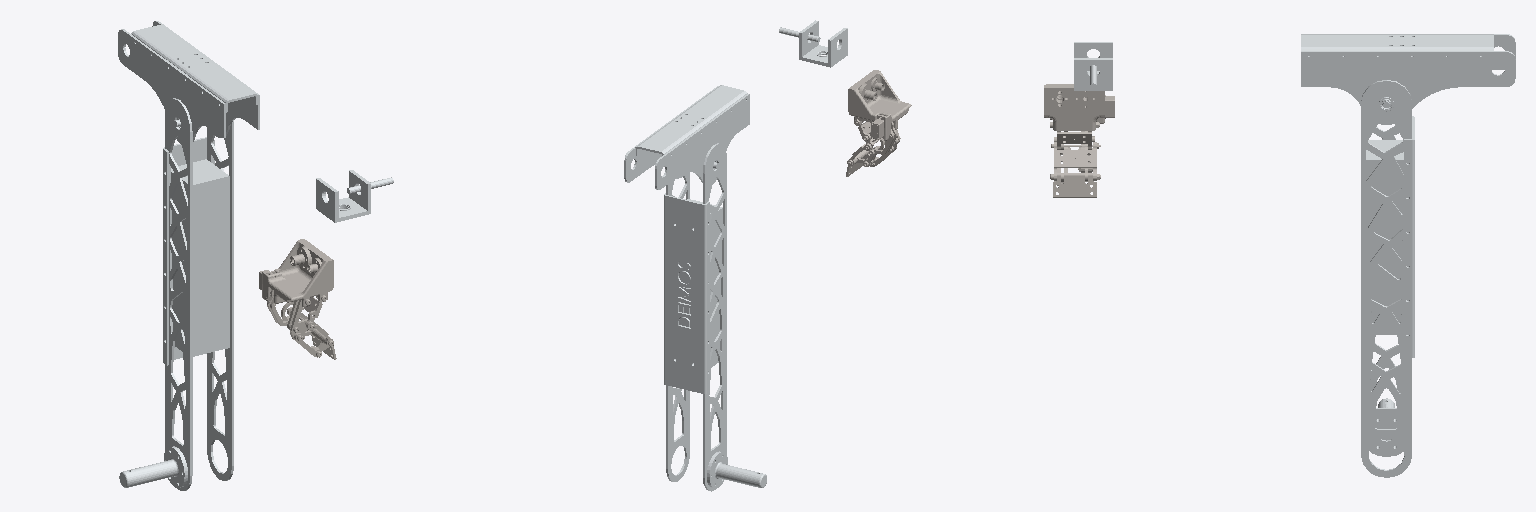
robot.urdf — new_Arm_Urdf:
<?xml version="1.0" encoding="utf-8"?>
<!-- This URDF was automatically created by SolidWorks to URDF Exporter! Originally created by [author] ([email redacted]) 
     Commit Version: 1.6.0-4-g7f85cfe  Build Version: 1.6.7995.38578
     For more information, please see http://wiki.ros.org/sw_urdf_exporter -->
<robot
  name="new_Arm_Urdf">
  <link
    name="base_link">
    <inertial>
      <origin
        xyz="-0.0108454625152952 5.41174924359247E-05 0.006809784336333"
        rpy="0 0 0" />
      <mass
        value="0.77116648882986" />
      <inertia
        ixx="0.000698139677914449"
        ixy="-9.98098781596673E-09"
        ixz="-4.42589020292978E-09"
        iyy="0.000247085234791679"
        iyz="-7.75794099441988E-09"
        izz="0.000718421438540256" />
    </inertial>
    <visual>
      <origin
        xyz="0 0 0"
        rpy="0 0 0" />
      <geometry>
        <mesh
          filename="package://new_Arm_Urdf/meshes/base_link.STL" />
      </geometry>
      <material
        name="">
        <color
          rgba="0.650980392156863 0.619607843137255 0.588235294117647 1" />
      </material>
    </visual>
    <collision>
      <origin
        xyz="0 0 0"
        rpy="0 0 0" />
      <geometry>
        <mesh
          filename="package://new_Arm_Urdf/meshes/base_link.STL" />
      </geometry>
    </collision>
  </link>
  <link name="world" />
  <joint name="world_joint" type="fixed">
        <origin xyz="0 0 0.0" rpy="0 0 0" />
        <parent link="world" />
        <child link="base_link" />
  </joint>
  <link
    name="Link_1">
    <inertial>
      <origin
        xyz="0.0020167 0.029098 0.029942"
        rpy="0 0 0" />
      <mass
        value="2.1944" />
      <inertia
        ixx="0.0062231"
        ixy="2.6994E-08"
        ixz="-1.9674E-07"
        iyy="0.0046047"
        iyz="-6.4389E-05"
        izz="0.009708" />
    </inertial>
    <visual>
      <origin
        xyz="0 0 0"
        rpy="0 0 0" />
      <geometry>
        <mesh
          filename="package://new_Arm_Urdf/meshes/Link_1.STL" />
      </geometry>
      <material
        name="">
        <color
          rgba="0.52941 0.54902 0.54902 1" />
      </material>
    </visual>
    <collision>
      <origin
        xyz="0 0 0"
        rpy="0 0 0" />
      <geometry>
        <mesh
          filename="package://new_Arm_Urdf/meshes/Link_1.STL" />
      </geometry>
    </collision>
  </link>
  <joint
    name="Joint_1"
    type="revolute">
    <origin
      xyz="0 0 0.073"
      rpy="0 0 0" />
    <parent
      link="base_link" />
    <child
      link="Link_1" />
    <axis
      xyz="0 0 1" />
    <limit
      lower="-3.17"
      upper="3.17"
      effort="50"
      velocity="5" />
  </joint>
  <link
    name="Link_2">
    <inertial>
      <origin
        xyz="0.003968 0.21748 0.022624"
        rpy="0 0 0" />
      <mass
        value="0.69662" />
      <inertia
        ixx="0.0086745"
        ixy="-1.4743E-05"
        ixz="-2.58E-09"
        iyy="0.00040391"
        iyz="4.8746E-10"
        izz="0.0087233" />
    </inertial>
    <visual>
      <origin
        xyz="0 0 0"
        rpy="0 0 0" />
      <geometry>
        <mesh
          filename="package://new_Arm_Urdf/meshes/Link_2.STL" />
      </geometry>
      <material
        name="">
        <color
          rgba="0.89804 0.91765 0.92941 1" />
      </material>
    </visual>
    <collision>
      <origin
        xyz="0 0 0"
        rpy="0 0 0" />
      <geometry>
        <mesh
          filename="package://new_Arm_Urdf/meshes/Link_2.STL" />
      </geometry>
    </collision>
  </link>
  <joint
    name="Joint_2"
    type="revolute">
    <origin
      xyz="-0.03 0.115 0.045"
      rpy="1.5708 0 1.5708" />
    <parent
      link="Link_1" />
    <child
      link="Link_2" />
    <axis
      xyz="0 0 -1" />
    <limit
      lower="-3.17"
      upper="3.17"
      effort="50"
      velocity="5" />
  </joint>
  <link
    name="Link_3">
    <inertial>
      <origin
        xyz="0.015944 0.039978 0.00016593"
        rpy="0 0 0" />
      <mass
        value="0.50477" />
      <inertia
        ixx="0.00021724"
        ixy="-3.2184E-05"
        ixz="1.0467E-18"
        iyy="0.0015659"
        iyz="-2.2249E-07"
        izz="0.0016584" />
    </inertial>
    <visual>
      <origin
        xyz="0 0 0"
        rpy="0 0 0" />
      <geometry>
        <mesh
          filename="package://new_Arm_Urdf/meshes/Link_3.STL" />
      </geometry>
      <material
        name="">
        <color
          rgba="0.89804 0.91765 0.92941 1" />
      </material>
    </visual>
    <collision>
      <origin
        xyz="0 0 0"
        rpy="0 0 0" />
      <geometry>
        <mesh
          filename="package://new_Arm_Urdf/meshes/Link_3.STL" />
      </geometry>
    </collision>
  </link>
  <joint
    name="Joint_3"
    type="revolute">
    <origin
      xyz="0 0.45 0.030104"
      rpy="0 0 0" />
    <parent
      link="Link_2" />
    <child
      link="Link_3" />
    <axis
      xyz="0 0 -1" />
    <limit
      lower="-3.17"
      upper="3.17"
      effort="50"
      velocity="5" />
  </joint>
  <link
    name="Link_4">
    <inertial>
      <origin
        xyz="0.00078256 0.0017973 -0.25155"
        rpy="0 0 0" />
      <mass
        value="0.70972" />
      <inertia
        ixx="0.001477"
        ixy="-2.4749E-07"
        ixz="-1.0396E-07"
        iyy="0.0014289"
        iyz="5.2193E-06"
        izz="0.0003066" />
    </inertial>
    <visual>
      <origin
        xyz="0 0 0"
        rpy="0 0 0" />
      <geometry>
        <mesh
          filename="package://new_Arm_Urdf/meshes/Link_4.STL" />
      </geometry>
      <material
        name="">
        <color
          rgba="0.89804 0.91765 0.92941 1" />
      </material>
    </visual>
    <collision>
      <origin
        xyz="0 0 0"
        rpy="0 0 0" />
      <geometry>
        <mesh
          filename="package://new_Arm_Urdf/meshes/Link_4.STL" />
      </geometry>
    </collision>
  </link>
  <joint
    name="Joint_4"
    type="revolute">
    <origin
      xyz="0.0424999999995649 0.0399572355492206 0.000401106428108807"
      rpy="0 1.5707963267949 0" />
    <parent
      link="Link_3" />
    <child
      link="Link_4" />
    <axis
      xyz="0 0 1" />
    <limit
      lower="-3.17"
      upper="3.17"
      effort="50"
      velocity="5" />
  </joint>
  <link
    name="Link_5">
    <inertial>
      <origin
        xyz="-1.5271E-13 -0.010109 0.0024958"
        rpy="0 0 0" />
      <mass
        value="0.074154" />
      <inertia
        ixx="3.8226E-05"
        ixy="-6.2247E-21"
        ixz="-2.9242E-18"
        iyy="3.9992E-05"
        iyz="-2.5287E-20"
        izz="2.2717E-05" />
    </inertial>
    <visual>
      <origin
        xyz="0 0 0"
        rpy="0 0 0" />
      <geometry>
        <mesh
          filename="package://new_Arm_Urdf/meshes/Link_5.STL" />
      </geometry>
      <material
        name="">
        <color
          rgba="0.89804 0.91765 0.92941 1" />
      </material>
    </visual>
    <collision>
      <origin
        xyz="0 0 0"
        rpy="0 0 0" />
      <geometry>
        <mesh
          filename="package://new_Arm_Urdf/meshes/Link_5.STL" />
      </geometry>
    </collision>
  </link>
  <joint
    name="Joint_5"
    type="revolute">
    <origin
      xyz="-0.00649999999995384 0 -0.383499999999573"
      rpy="0 1.5707963267949 0" />
    <parent
      link="Link_4" />
    <child
      link="Link_5" />
    <axis
      xyz="0 0 1" />
    <limit
      lower="-3.17"
      upper="3.17"
      effort="50"
      velocity="5" />
  </joint>
  <link
    name="Link_6">
    <inertial>
      <origin
        xyz="0.013561 -0.026542 0.030141"
        rpy="0 0 0" />
      <mass
        value="0.25275" />
      <inertia
        ixx="0.00019507"
        ixy="2.5231E-05"
        ixz="6.2223E-05"
        iyy="0.00090343"
        iyz="-1.4862E-05"
        izz="0.00099324" />
    </inertial>
    <visual>
      <origin
        xyz="0 0 0"
        rpy="0 0 0" />
      <geometry>
        <mesh
          filename="package://new_Arm_Urdf/meshes/Link_6.STL" />
      </geometry>
      <material
        name="">
        <color
          rgba="0.89804 0.91765 0.92941 1" />
      </material>
    </visual>
    <collision>
      <origin
        xyz="0 0 0"
        rpy="0 0 0" />
      <geometry>
        <mesh
          filename="package://new_Arm_Urdf/meshes/Link_6.STL" />
      </geometry>
    </collision>
  </link>
  <joint
    name="Joint_6"
    type="revolute">
    <origin
      xyz="0 -0.0199999999999119 0.00650441096988074"
      rpy="1.5707963267949 -1.5707963267949 0" />
    <parent
      link="Link_5" />
    <child
      link="Link_6" />
    <axis
      xyz="0 0 1" />
    <limit
      lower="-3.17"
      upper="3.17"
      effort="50"
      velocity="5" />
  </joint>
  <link
    name="Gripper_1">
    <inertial>
      <origin
        xyz="0.0204003994866882 0.0334764538131502 0.0632308380842433"
        rpy="0 0 0" />
      <mass
        value="0.137742996070539" />
      <inertia
        ixx="5.29911205654127E-05"
        ixy="-1.12421617290648E-06"
        ixz="-2.49192530851108E-06"
        iyy="7.19109477567397E-05"
        iyz="-1.11448830844525E-05"
        izz="6.43837075224543E-05" />
    </inertial>
    <visual>
      <origin
        xyz="0 0 0"
        rpy="0 0 0" />
      <geometry>
        <mesh
          filename="package://new_Arm_Urdf/meshes/Gripper_1.STL" />
      </geometry>
      <material
        name="">
        <color
          rgba="0.776470588235294 0.756862745098039 0.737254901960784 1" />
      </material>
    </visual>
    <collision>
      <origin
        xyz="0 0 0"
        rpy="0 0 0" />
      <geometry>
        <mesh
          filename="package://new_Arm_Urdf/meshes/Gripper_1.STL" />
      </geometry>
    </collision>
  </link>
  <joint
    name="Finger_1"
    type="prismatic">
    <origin
      xyz="0.00535 -0.039095 0.048795"
      rpy="1.5708 0 1.5708" />
    <parent
      link="Link_6" />
    <child
      link="Gripper_1" />
    <axis
      xyz="0 0 -1" />
    <limit
      lower="-0.15"
      upper="0.15"
      effort="100"
      velocity="10" />
  </joint>
  <link
    name="Gripper_2">
    <inertial>
      <origin
        xyz="0.0145607269511467 0.0386349312979294 -0.0735904539347171"
        rpy="0 0 0" />
      <mass
        value="0.153524806276939" />
      <inertia
        ixx="5.29298080219387E-05"
        ixy="1.90492712259092E-06"
        ixz="-3.08938743831607E-06"
        iyy="7.11796554106571E-05"
        iyz="1.10602892279559E-05"
        izz="6.37754371291907E-05" />
    </inertial>
    <visual>
      <origin
        xyz="0 0 0"
        rpy="0 0 0" />
      <geometry>
        <mesh
          filename="package://new_Arm_Urdf/meshes/Gripper_2.STL" />
      </geometry>
      <material
        name="">
        <color
          rgba="0.776470588235294 0.756862745098039 0.737254901960784 1" />
      </material>
    </visual>
    <collision>
      <origin
        xyz="0 0 0"
        rpy="0 0 0" />
      <geometry>
        <mesh
          filename="package://new_Arm_Urdf/meshes/Gripper_2.STL" />
      </geometry>
    </collision>
  </link>
  <joint
    name="Finger_2"
    type="prismatic">
    <origin
      xyz="0.00534999999999963 -0.0390954035350414 0.0487946645392847"
      rpy="1.5707963267949 0 1.5707963267949" />
    <parent
      link="Link_6" />
    <child
      link="Gripper_2" />
    <axis
      xyz="0 0 -1" />
    <limit
      lower="-0.15"
      upper="0.15"
      effort="100"
      velocity="10" />
  </joint>
  <transmission name="trans_Joint_1">
        <type>transmission_interface/SimpleTransmission</type>
        <joint name="Joint_1">
            <hardwareInterface>hardware_interface/PositionJointInterface</hardwareInterface>
        </joint>
        <actuator name="Link_1_motor">
            <hardwareInterface>hardware_interface/PositionJointInterface</hardwareInterface>
            <mechanicalReduction>1</mechanicalReduction>
        </actuator>
    </transmission>
    <transmission name="trans_Joint_2">
        <type>transmission_interface/SimpleTransmission</type>
        <joint name="Joint_2">
            <hardwareInterface>hardware_interface/PositionJointInterface</hardwareInterface>
        </joint>
        <actuator name="Link_2_motor">
            <hardwareInterface>hardware_interface/PositionJointInterface</hardwareInterface>
            <mechanicalReduction>1</mechanicalReduction>
        </actuator>
    </transmission>
    <transmission name="trans_Joint_3">
        <type>transmission_interface/SimpleTransmission</type>
        <joint name="Joint_3">
            <hardwareInterface>hardware_interface/PositionJointInterface</hardwareInterface>
        </joint>
        <actuator name="Link_3_motor">
            <hardwareInterface>hardware_interface/PositionJointInterface</hardwareInterface>
            <mechanicalReduction>1</mechanicalReduction>
        </actuator>
    </transmission>
    <transmission name="trans_Joint_4">
        <type>transmission_interface/SimpleTransmission</type>
        <joint name="Joint_4">
            <hardwareInterface>hardware_interface/PositionJointInterface</hardwareInterface>
        </joint>
        <actuator name="Link_4_motor">
            <hardwareInterface>hardware_interface/PositionJointInterface</hardwareInterface>
            <mechanicalReduction>1</mechanicalReduction>
        </actuator>
    </transmission>
    <transmission name="trans_Joint_5">
        <type>transmission_interface/SimpleTransmission</type>
        <joint name="Joint_5">
            <hardwareInterface>hardware_interface/PositionJointInterface</hardwareInterface>
        </joint>
        <actuator name="Link_5_motor">
            <hardwareInterface>hardware_interface/PositionJointInterface</hardwareInterface>
            <mechanicalReduction>1</mechanicalReduction>
        </actuator>
    </transmission>
    <transmission name="trans_Joint_6">
        <type>transmission_interface/SimpleTransmission</type>
        <joint name="Joint_6">
            <hardwareInterface>hardware_interface/PositionJointInterface</hardwareInterface>
        </joint>
        <actuator name="Link_6_motor">
            <hardwareInterface>hardware_interface/PositionJointInterface</hardwareInterface>
            <mechanicalReduction>1</mechanicalReduction>
        </actuator>
    </transmission>
    <transmission name="trans_Finger_1">
        <type>transmission_interface/SimpleTransmission</type>
        <joint name="Finger_1">
            <hardwareInterface>hardware_interface/PositionJointInterface</hardwareInterface>
        </joint>
        <actuator name="Gripper_1_motor">
            <hardwareInterface>hardware_interface/PositionJointInterface</hardwareInterface>
            <mechanicalReduction>1</mechanicalReduction>
        </actuator>
    </transmission>
    <transmission name="trans_Finger_2">
        <type>transmission_interface/SimpleTransmission</type>
        <joint name="Finger_2">
            <hardwareInterface>hardware_interface/PositionJointInterface</hardwareInterface>
        </joint>
        <actuator name="Gripper_2_motor">
            <hardwareInterface>hardware_interface/PositionJointInterface</hardwareInterface>
            <mechanicalReduction>1</mechanicalReduction>
        </actuator>
    </transmission>
    <gazebo>
        <plugin name="gazebo_ros_control" filename="libgazebo_ros_control.so">
            <robotNamespace>/</robotNamespace>
        </plugin>
    </gazebo>
</robot>

--- What the picture shows (computed from the rendered views, not written in the file) ---
3 views of the same robot in one strip: view 1: azimuth 30°, elevation 25°; view 2: azimuth 150°, elevation 25°; view 3: azimuth 270°, elevation 25° (orthographic).
Model new_Arm_Urdf with 10 links and 9 joints (6 revolute, 2 prismatic, 1 fixed), rooted at world, posed every joint at zero.
Links seen in each view (by area): view 1: Link_2, Link_3, Gripper_1, Link_5; view 2: Link_2, Link_3, Gripper_1, Link_5; view 3: Link_2, Link_3, Gripper_1, Link_5.
Boxes of the visible links, x1,y1,x2,y2 form: Link_2: [119, 98, 233, 490]; Link_3: [118, 21, 259, 144]; Gripper_1: [259, 239, 336, 359]; Link_5: [316, 170, 393, 222]; Link_2: [664, 143, 766, 491]; Link_3: [624, 85, 749, 189]; Gripper_1: [846, 70, 911, 176]; Link_5: [779, 20, 847, 67]; Link_2: [1361, 80, 1414, 477]; Link_3: [1301, 34, 1515, 124]; Gripper_1: [1044, 84, 1114, 197]; Link_5: [1074, 42, 1112, 90].
Size in the robot's own frame: 0.1731 by 0.5481 by 0.5475 metres.
4 mesh visuals loaded from 9 distinct referenced files (4 binary STL); not drawn: 5 (reference not matched to a file when rendering).